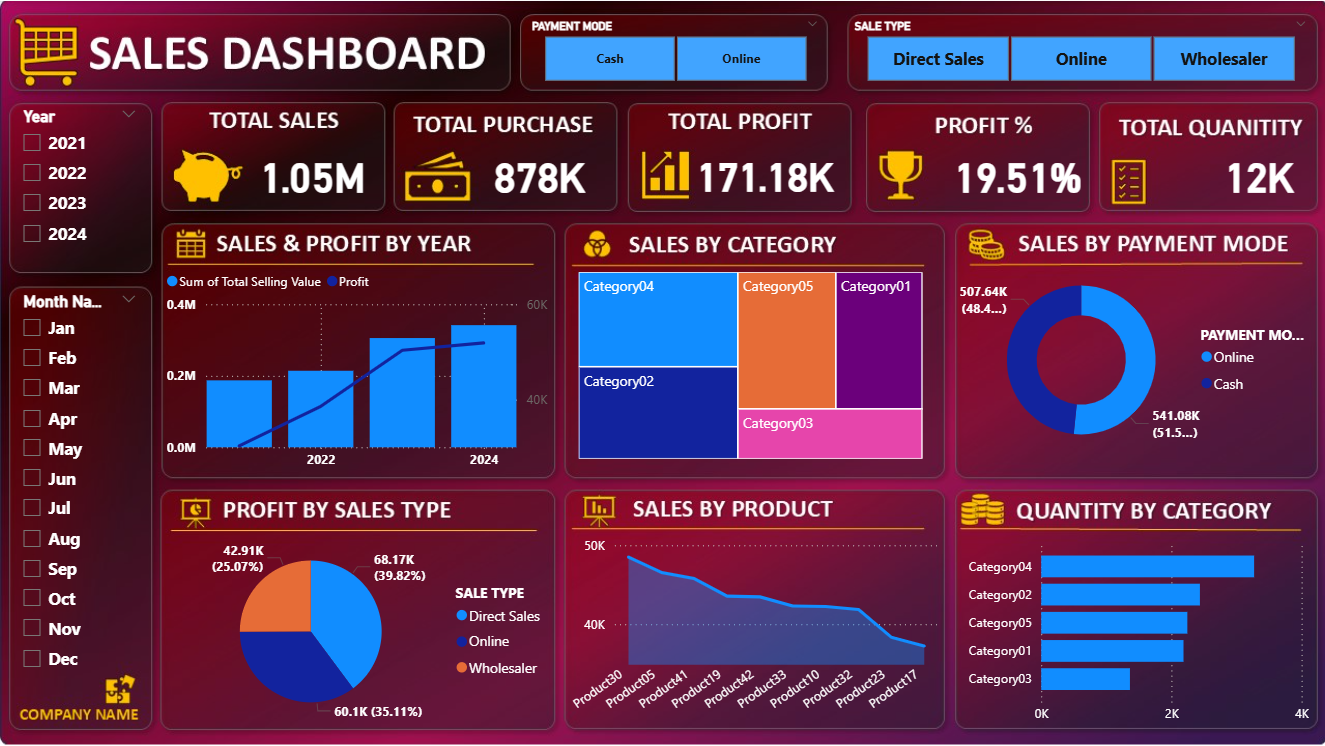

The page's visual inventory and layout, read from the dashboard file:
{"tool":"powerbi","page":{"name":"3","canvas":[1280,720],"ordinal":4},"visuals":[{"type":"slicer","fields":{"Values":["SALES 2021-2024.Year"]},"box":[10,97.1,134.3,164.3],"z":1000},{"type":"slicer","fields":{"Values":["SALES 2021-2024.Month Name"]},"box":[10,275.7,134.3,430],"z":2000},{"type":"slicer","fields":{"Values":["SALES 2021-2024.PAYMENT MODE"]},"box":[505.7,14.3,291.4,74.3],"z":3000},{"type":"slicer","fields":{"Values":["SALES 2021-2024.SALE TYPE"]},"box":[817.1,14.3,451.4,74.3],"z":4000},{"type":"card","fields":{"Values":["Sum(SALES 2021-2024.Total Selling Value)"]},"box":[234.3,131.4,135.7,71.4],"z":5000},{"type":"card","fields":{"Values":["Sum(SALES 2021-2024.Total Buying Value)"]},"box":[457.1,131.4,127.1,71.4],"z":6000},{"type":"card","fields":{"Values":["SALES 2021-2024.Profit"]},"box":[660,131.4,157.1,71.4],"z":7000},{"type":"card","fields":{"Values":["SALES 2021-2024.Profit %"]},"box":[910,131.4,145.7,71.4],"z":8000},{"type":"lineStackedColumnComboChart","fields":{"Category":["SALES 2021-2024.Year Hierarchy.Year","SALES 2021-2024.Year Hierarchy.Month Name","SALES 2021-2024.Year Hierarchy.Day"],"Y":["Sum(SALES 2021-2024.Total Selling Value)"],"Y2":["SALES 2021-2024.Profit"]},"box":[155.7,251.4,380,210],"z":9000},{"type":"treemap","fields":{"Group":["SALES 2021-2024.MasterData.CATEGORY"],"Values":["Sum(SALES 2021-2024.Total Selling Value)"]},"box":[554.3,257.1,341.4,204.3],"z":10000},{"type":"donutChart","fields":{"Category":["SALES 2021-2024.PAYMENT MODE"],"Y":["Sum(SALES 2021-2024.Total Selling Value)"]},"box":[924.3,231.4,344.3,230],"z":11000},{"type":"pieChart","fields":{"Category":["SALES 2021-2024.SALE TYPE"],"Y":["SALES 2021-2024.Profit"]},"box":[155.7,511.4,380,194.3],"z":12000},{"type":"areaChart","fields":{"Category":["SALES 2021-2024.MasterData.PRODUCT"],"Y":["Sum(SALES 2021-2024.Total Selling Value)"]},"box":[544.3,511.4,365.7,194.3],"z":13000},{"type":"barChart","fields":{"Category":["SALES 2021-2024.MasterData.CATEGORY"],"Y":["Sum(SALES 2021-2024.QUANTITY)"]},"box":[924.3,511.4,344.3,194.3],"z":14000},{"type":"card","fields":{"Values":["Sum(SALES 2021-2024.QUANTITY)"]},"box":[1161.4,131.4,107.1,71.4],"z":15000}]}

Visuals, with their boxes in screenshot pixels (x1, y1, x2, y2), scaled from the page's 1280x720 canvas onto the 1325x746 screenshot:
slicer - SALES 2021-2024.Year: BBox(10, 101, 149, 271)
slicer - SALES 2021-2024.Month Name: BBox(10, 286, 149, 731)
slicer - SALES 2021-2024.PAYMENT MODE: BBox(523, 15, 825, 92)
slicer - SALES 2021-2024.SALE TYPE: BBox(846, 15, 1313, 92)
card - Sum(SALES 2021-2024.Total Selling Value): BBox(243, 136, 383, 210)
card - Sum(SALES 2021-2024.Total Buying Value): BBox(473, 136, 605, 210)
card - SALES 2021-2024.Profit: BBox(683, 136, 846, 210)
card - SALES 2021-2024.Profit %: BBox(942, 136, 1093, 210)
lineStackedColumnComboChart - SALES 2021-2024.Year Hierarchy.Year x SALES 2021-2024.Year Hierarchy.Month Name: BBox(161, 260, 555, 478)
treemap - SALES 2021-2024.MasterData.CATEGORY x Sum(SALES 2021-2024.Total Selling Value): BBox(574, 266, 927, 478)
donutChart - SALES 2021-2024.PAYMENT MODE x Sum(SALES 2021-2024.Total Selling Value): BBox(957, 240, 1313, 478)
pieChart - SALES 2021-2024.SALE TYPE x SALES 2021-2024.Profit: BBox(161, 530, 555, 731)
areaChart - SALES 2021-2024.MasterData.PRODUCT x Sum(SALES 2021-2024.Total Selling Value): BBox(563, 530, 942, 731)
barChart - SALES 2021-2024.MasterData.CATEGORY x Sum(SALES 2021-2024.QUANTITY): BBox(957, 530, 1313, 731)
card - Sum(SALES 2021-2024.QUANTITY): BBox(1202, 136, 1313, 210)
